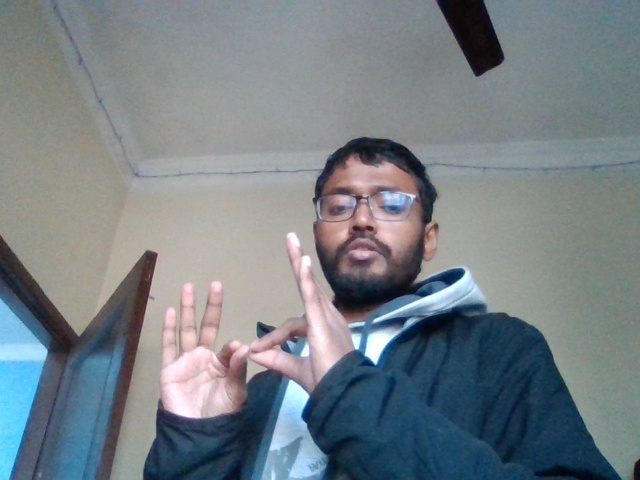family: (156, 264, 367, 431)
